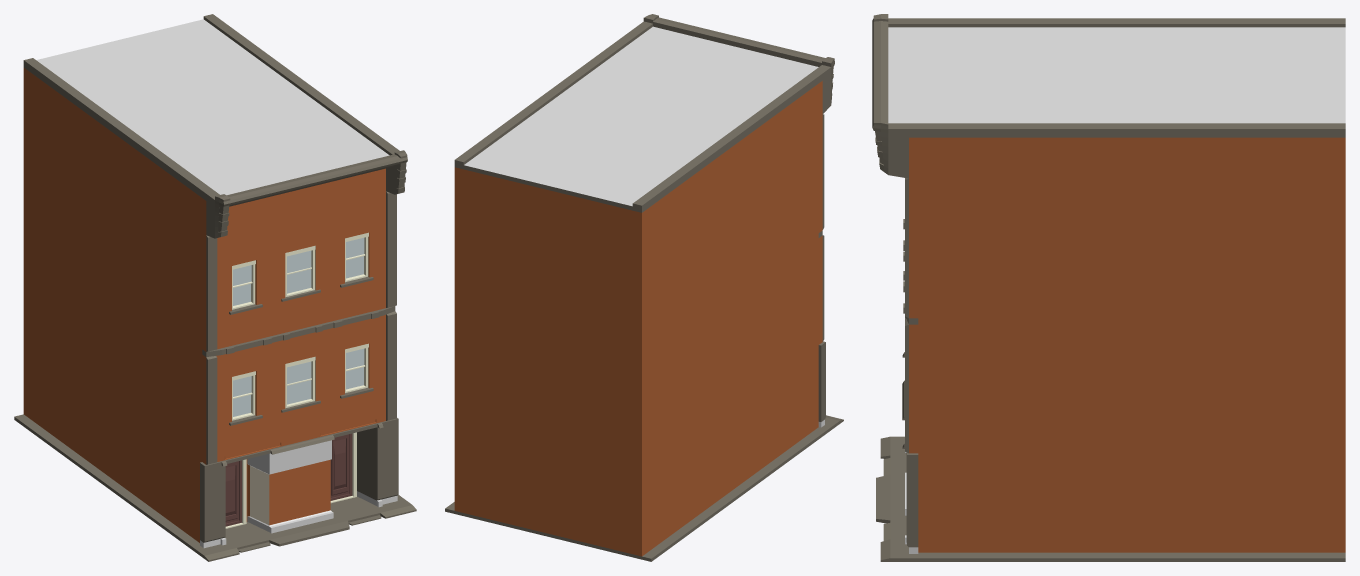
Rendered from Building_2.fbx.
3 renders of one model, left to right at view 1: azimuth 30°, elevation 25°; view 2: azimuth 150°, elevation 25°; view 3: azimuth 270°, elevation 25°, orthographic. The views are drawn at different scales.
Visible parts, largest first — view 1: Cube.047; view 2: Cube.047; view 3: Cube.047.
Boxes of the visible parts, x1=… form: Cube.047: x1=14, y1=14, x2=416, y2=561; Cube.047: x1=445, y1=14, x2=843, y2=561; Cube.047: x1=872, y1=14, x2=1345, y2=561.
Size of the model in its own units: 676 by 1122 by 1112.
